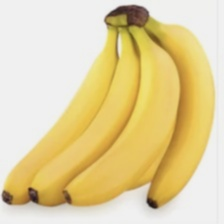banana: (46, 34, 199, 175)
